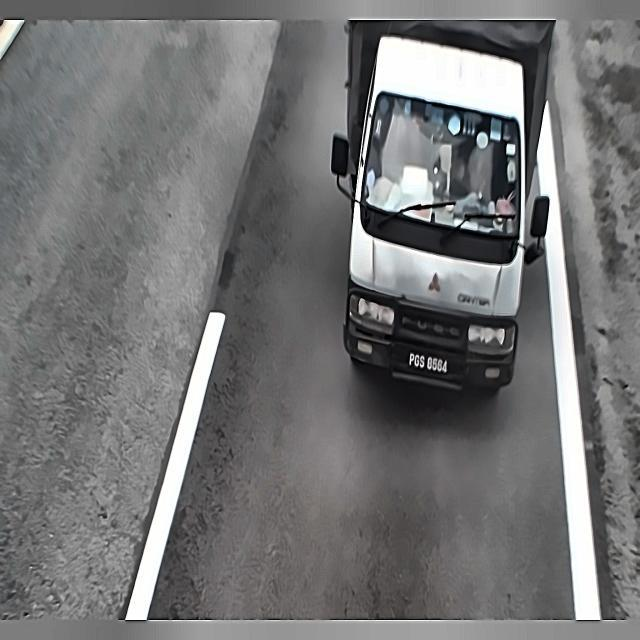car: (408, 349, 450, 382)
